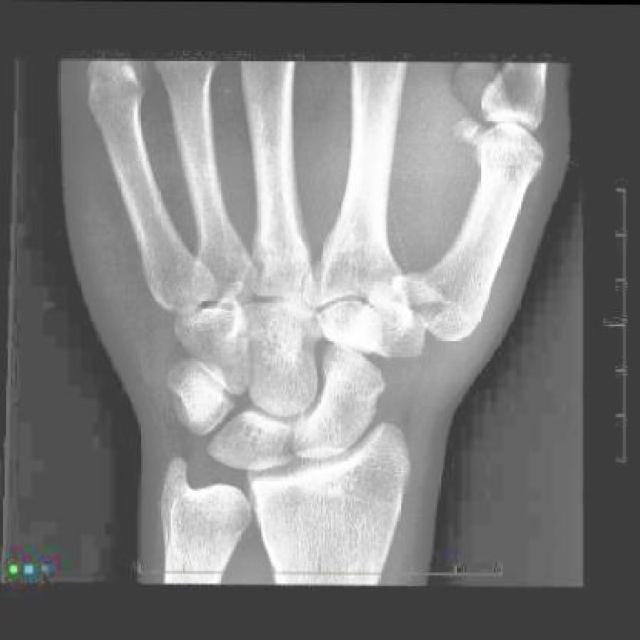Fracture: (400, 262, 474, 329)
